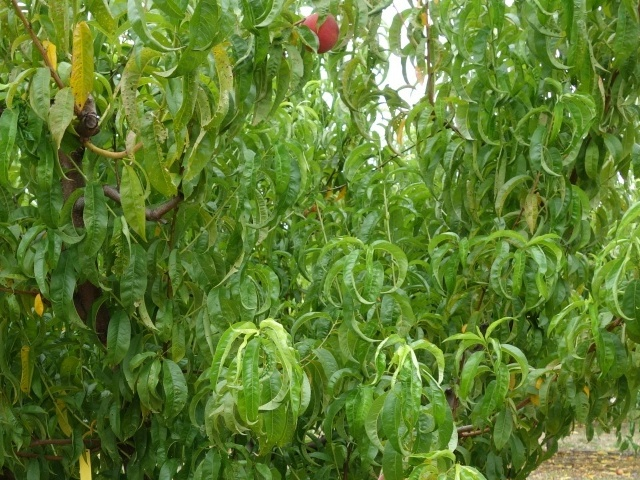peach: (298, 12, 341, 54)
